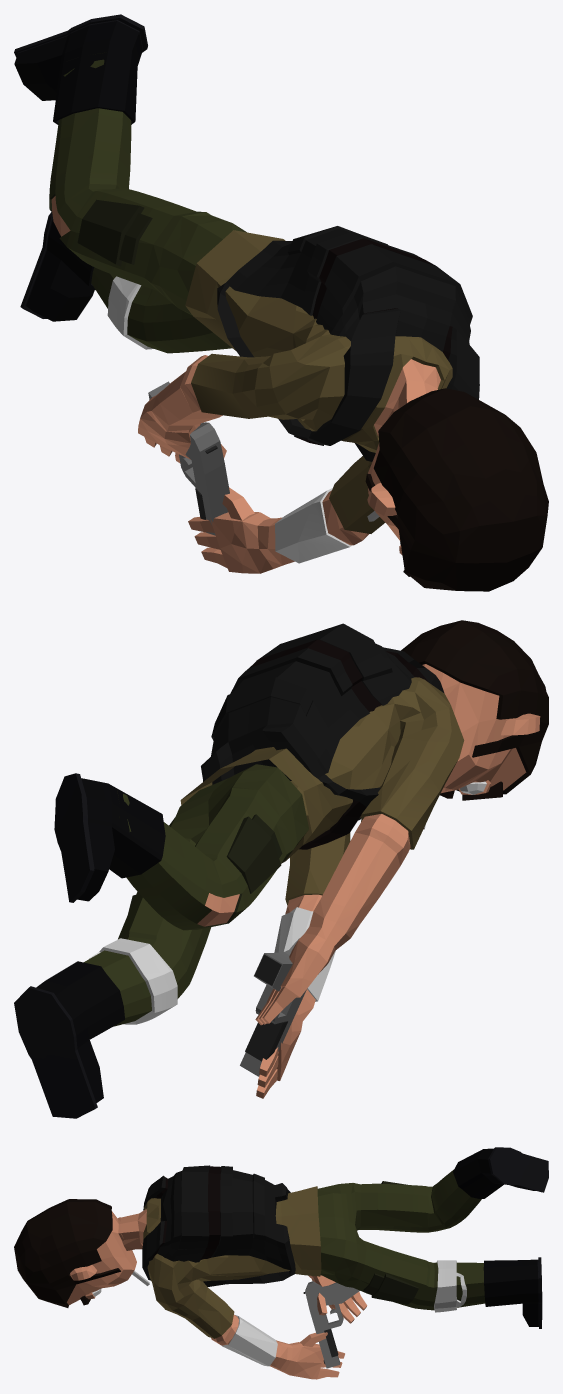
The model's file is frame_0037.obj.
3 renders of one model, top to bottom at view 1: azimuth 30°, elevation 25°; view 2: azimuth 150°, elevation 25°; view 3: azimuth 270°, elevation 25°, orthographic. The views are drawn at different scales.
Visible parts, largest first — view 1: Body, Gun; view 2: Body, Gun; view 3: Body, Gun.
Boxes of the visible parts, box(x1,y1,x2,y2) form: Body: box(14, 14, 548, 591); Gun: box(148, 381, 229, 535); Body: box(14, 620, 548, 1118); Gun: box(240, 938, 306, 1076); Body: box(14, 1147, 548, 1379); Gun: box(303, 1281, 359, 1368).
Size of the model in its own units: 1.14 by 2.11 by 4.18.
